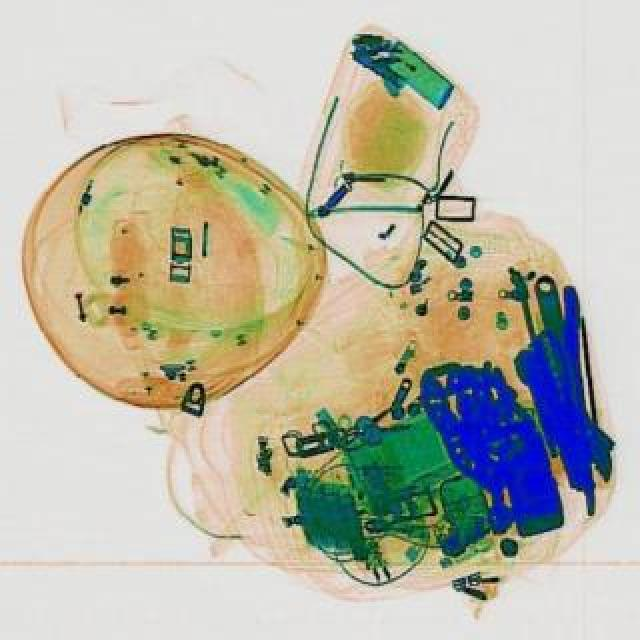scissors: (516, 274, 620, 498)
